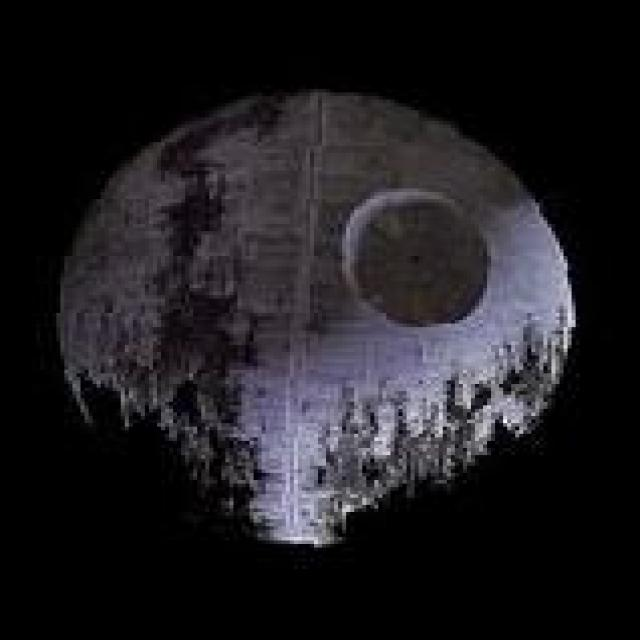Death Star: (48, 82, 584, 551)
